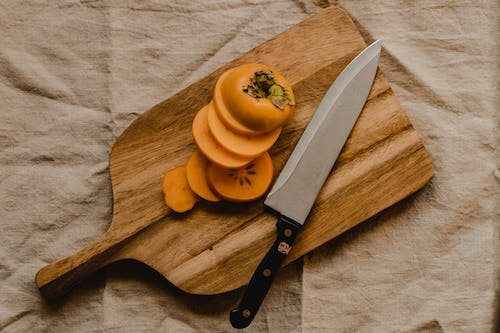knife: (227, 38, 381, 330)
